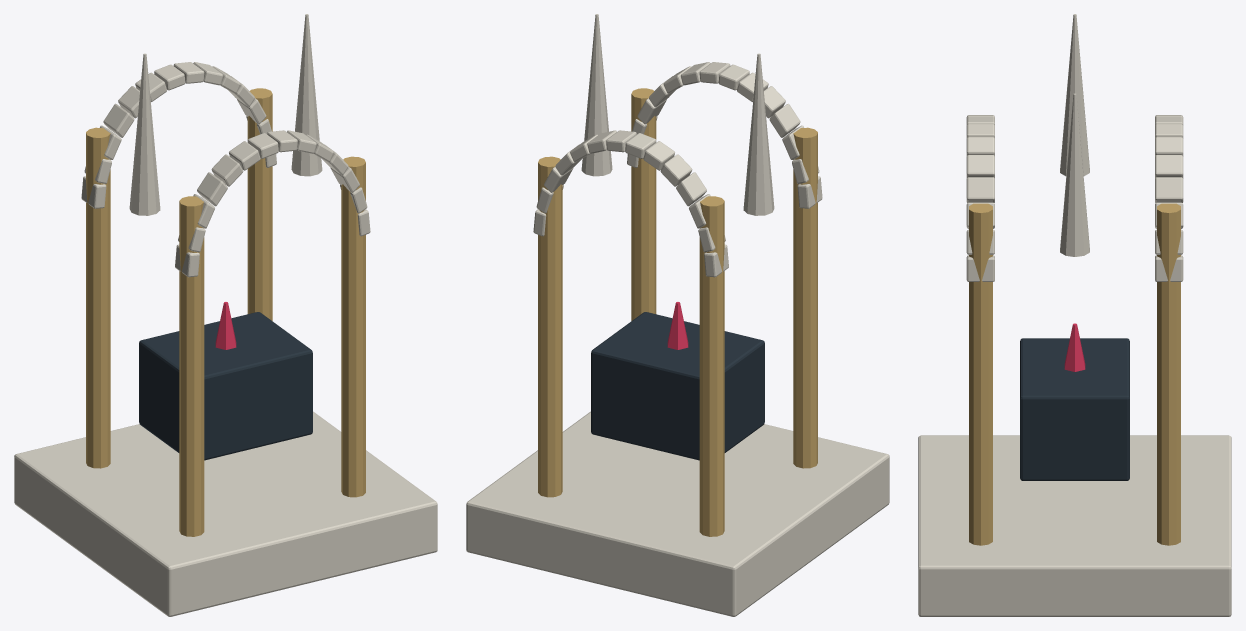
The model's file is a6_hero.glb.
3 views of the same model, side by side, from view 1: azimuth 30°, elevation 25°; view 2: azimuth 150°, elevation 25°; view 3: azimuth 270°, elevation 25° (orthographic).
Parts seen in each view (by area): view 1: Body.072; view 2: Body.072; view 3: Body.072.
Boxes of the visible parts, x1,y1,x2,y2 form: Body.072: [14, 14, 437, 616]; Body.072: [466, 14, 889, 616]; Body.072: [918, 14, 1231, 616].
Size of the model in its own units: 2 by 3.5 by 2.
